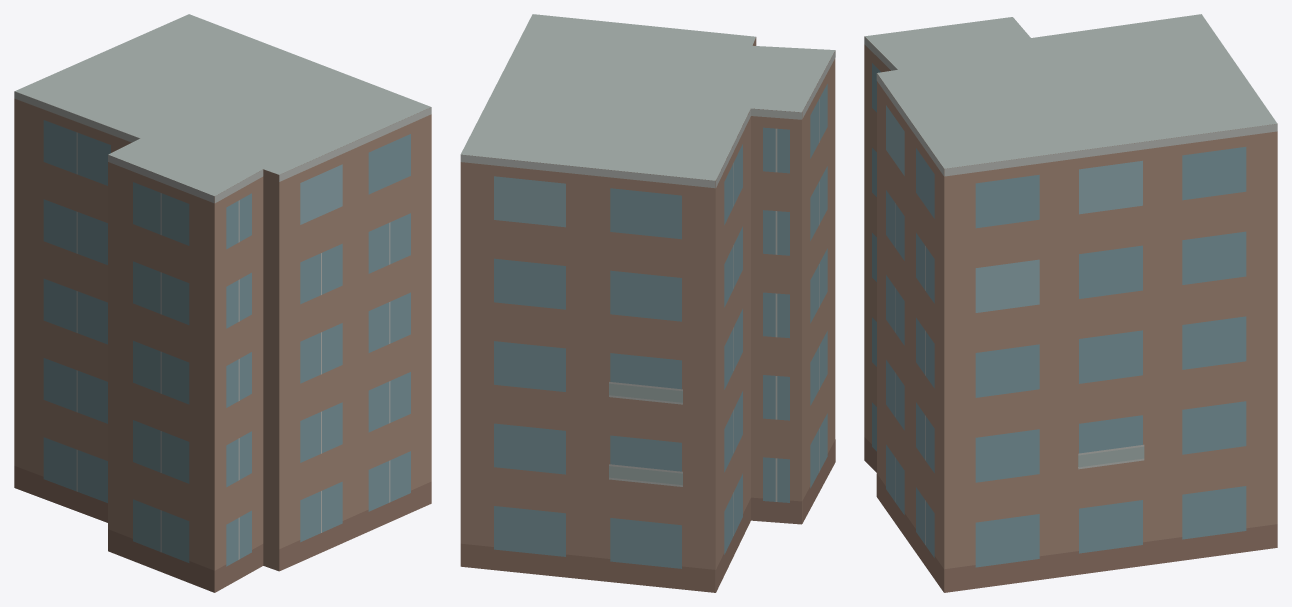
File: survey-upis-32620066.glb
3 renders of one model, left to right at view 1: azimuth 30°, elevation 25°; view 2: azimuth 150°, elevation 25°; view 3: azimuth 270°, elevation 25°, orthographic. The views are drawn at different scales.
Parts seen in each view (by area): view 1: survey-upis-32620066.tmp; view 2: survey-upis-32620066.tmp; view 3: survey-upis-32620066.tmp.
Boxes of the visible parts, box(x1,y1,x2,y2) form: survey-upis-32620066.tmp: box(14, 14, 431, 592); survey-upis-32620066.tmp: box(460, 14, 835, 592); survey-upis-32620066.tmp: box(864, 14, 1277, 592).
Bounding box in the file's own units: 10.5 × 13.4 × 11.84.
